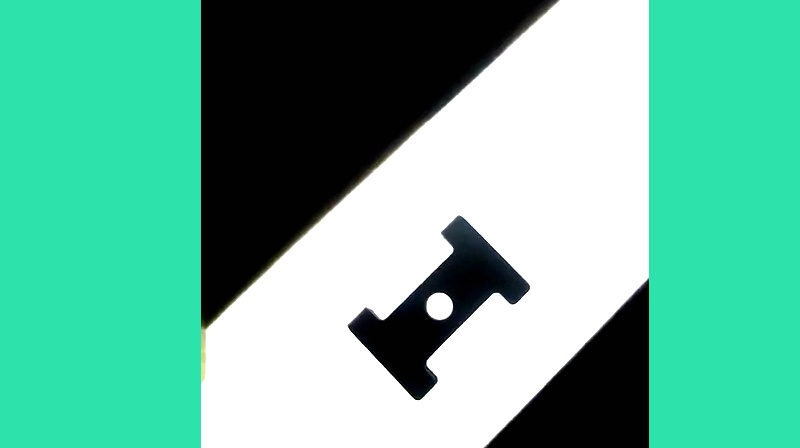O002: (343, 213, 532, 404)
